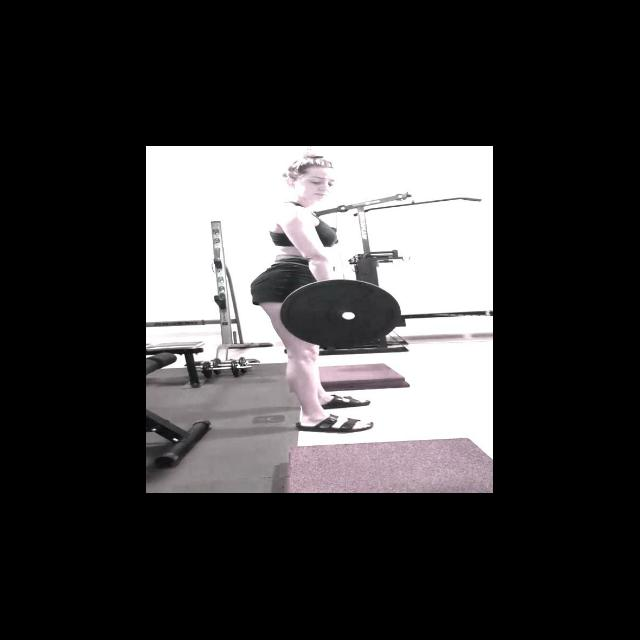barbell: (276, 276, 404, 350)
